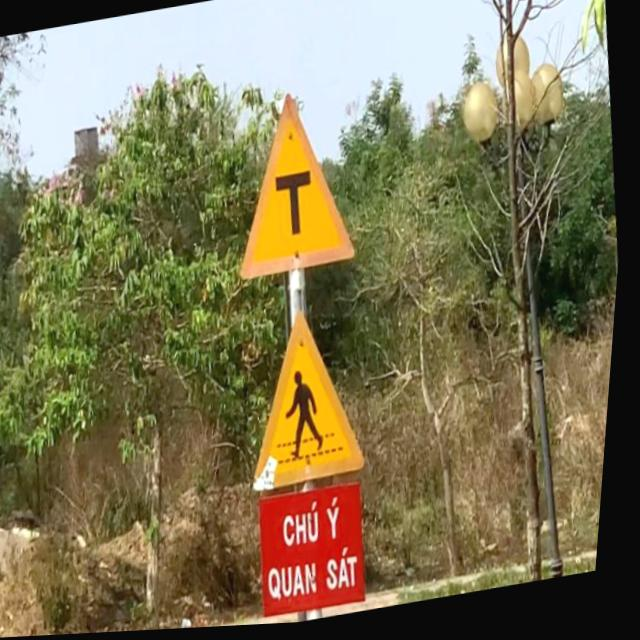Nguoi di bo cat ngang: (238, 300, 385, 500)
